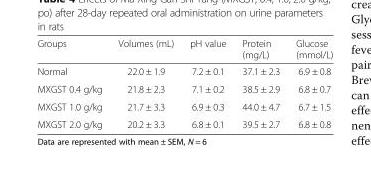table: (36, 37, 332, 129)
table column: (36, 37, 109, 129), (109, 37, 181, 129), (233, 37, 287, 129), (181, 37, 233, 129), (287, 37, 332, 129)
table column header: (36, 37, 332, 62)
table row: (36, 37, 332, 62), (36, 79, 332, 97), (36, 97, 332, 115), (36, 62, 332, 79), (36, 115, 332, 129)
